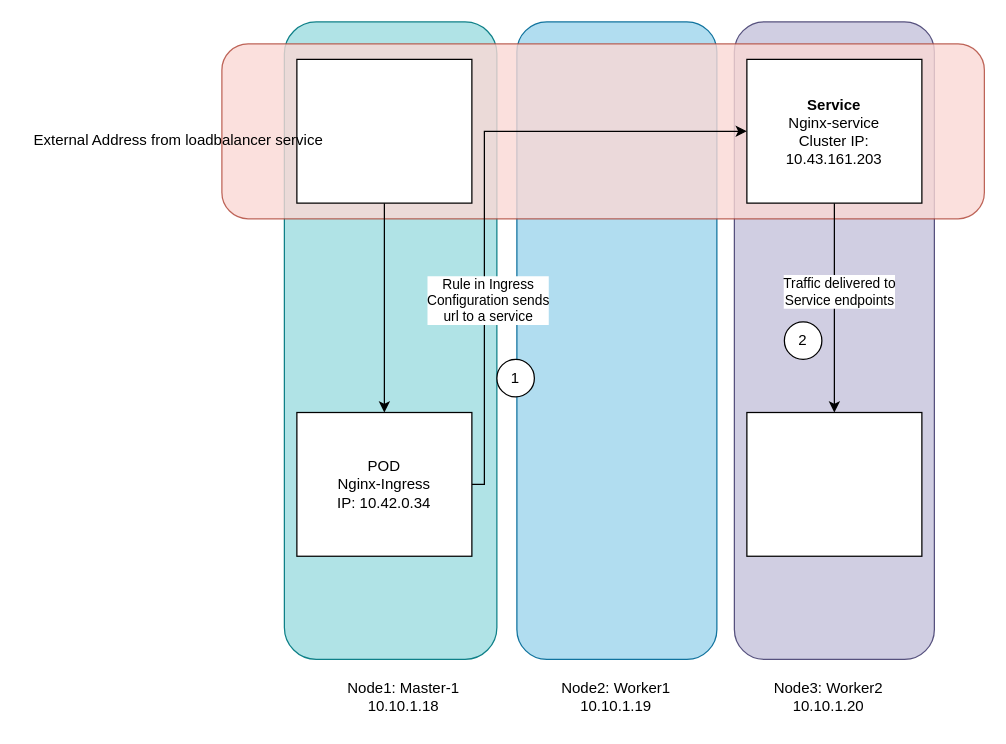
The diagram is 1006 pixels wide and 744 high, and some of its shapes have lost their labels. Here are the shapes that lost their labels. From the top down, the box of each, then its label:
(296, 58, 472, 203): Service Nginx-Ingress LoadBalancer IP 10.10.1.64 Cluster IP: 10.43.31.2
(746, 411, 922, 556): POD Nginx IP: 10.42.3.139
